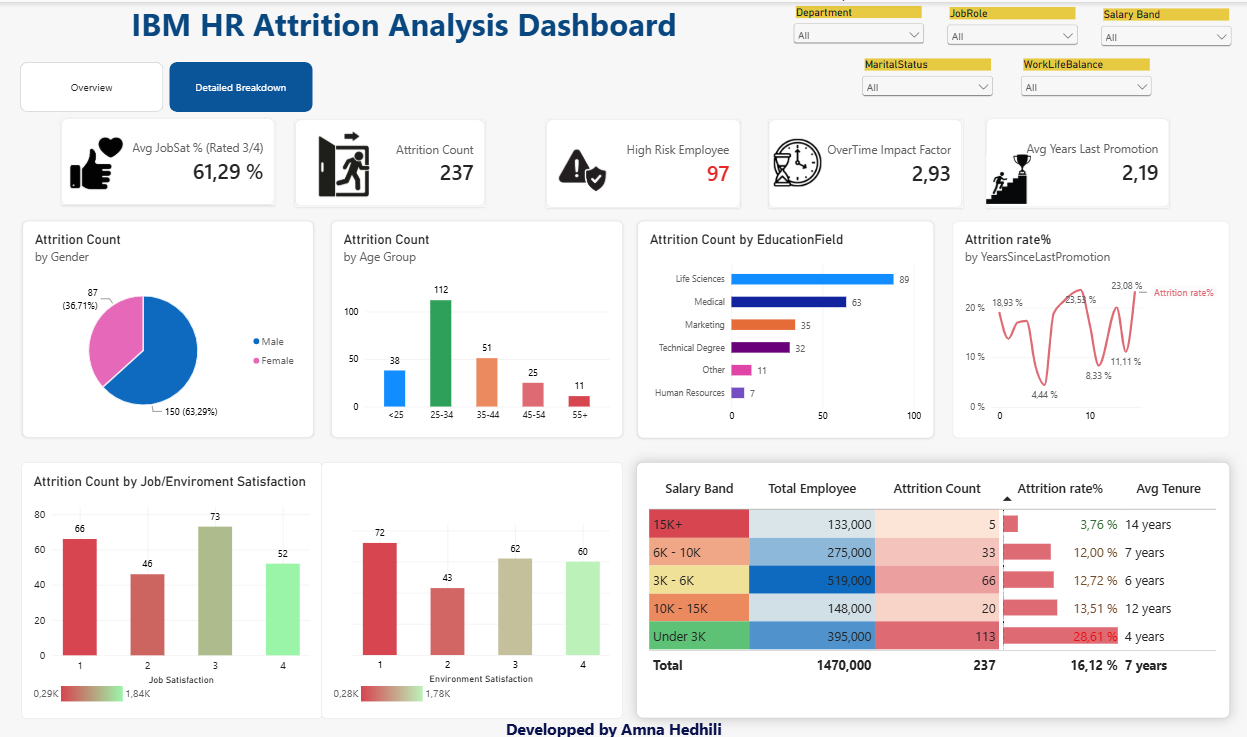

What the dashboard file says about the page in this screenshot:
{"tool":"powerbi","page":{"name":"Detailed Breakdown","canvas":[1700,1015],"ordinal":1},"visuals":[{"type":"slicer","fields":{"Values":["WA_Fn-UseC_-HR-Employee-Attrition.JobRole"]},"box":[1283.9,6.7,187.1,72.9],"z":0},{"type":"cardVisual","fields":{"Data":["measures table.Avg JobSat % (Rated 3/4)"]},"box":[83.4,158.2,290.1,118.3],"z":0,"group":"g1"},{"type":"cardVisual","fields":{"Data":["measures table.Avg Years Last Promotion"]},"box":[1342.3,158.2,249,122],"z":0,"group":"g5"},{"type":"cardVisual","title":"High Risk Employee ","fields":{"Data":["measures table.High Risk Employee Count"]},"box":[743.6,160,264.2,120.1],"z":0,"group":"g3"},{"type":"cardVisual","fields":{"Data":["measures table.OverTime Impact Factor"]},"box":[1046.6,160,264,120.1],"z":0,"group":"g4"},{"type":"cardVisual","fields":{"Data":["measures table.Attrition Count"]},"box":[401.7,160.7,258.7,118.3],"z":0,"group":"g2"},{"type":"slicer","fields":{"Values":["WA_Fn-UseC_-HR-Employee-Attrition.Department"]},"box":[1074.8,5,187,72.9],"z":1000},{"type":"image","box":[1054,171.1,64.7,94.2],"z":1000,"group":"g4"},{"type":"image","box":[83.8,173,96.1,92.4],"z":1000,"group":"g1"},{"type":"image","box":[410.9,173,116.4,97.9],"z":1000,"group":"g2"},{"type":"image","box":[751,176.6,85,103.5],"z":1000,"group":"g3"},{"type":"image","box":[1342.3,193.3,61,94.2],"z":1000,"group":"g5"},{"type":"slicer","fields":{"Values":["WA_Fn-UseC_-HR-Employee-Attrition.Salary Band"]},"box":[1493.1,8.3,187,72.9],"z":2000},{"type":"textbox","box":[179.2,0,829.7,77.6],"z":3000},{"type":"columnChart","fields":{"Y":["measures table.Attrition Count"],"Category":["WA_Fn-UseC_-HR-Employee-Attrition.Age Group"]},"box":[451,297.7,396.7,295],"z":4000},{"type":"pieChart","fields":{"Category":["WA_Fn-UseC_-HR-Employee-Attrition.Gender"],"Y":["measures table.Attrition Count"]},"box":[30.1,297.7,396,295],"z":5000},{"type":"barChart","title":"Attrition Count by EducationField ","fields":{"Category":["WA_Fn-UseC_-HR-Employee-Attrition.EducationField"],"Y":["measures table.Attrition Count"],"Series":["WA_Fn-UseC_-HR-Employee-Attrition.EducationField"]},"box":[866.6,297.5,402.8,295.7],"z":6000},{"type":"tableEx","fields":{"Values":["WA_Fn-UseC_-HR-Employee-Attrition.Salary Band","measures table.Total Employee","measures table.Attrition Count","measures table.Attrition rate%","measures table.Avg Tenure"]},"box":[866.1,625.8,808.1,348.5],"z":7000},{"type":"clusteredColumnChart","title":"Attrition Count by Job/Enviroment Satisfaction ","fields":{"Category":["WA_Fn-UseC_-HR-Employee-Attrition.JobSatisfaction"],"Y":["measures table.Attrition Count"]},"box":[29.6,626.4,410,349.2],"z":8000},{"type":"clusteredColumnChart","fields":{"Y":["measures table.Attrition Count"],"Category":["WA_Fn-UseC_-HR-Employee-Attrition.EnvironmentSatisfaction"]},"box":[437.9,626.4,410,349.2],"z":9000},{"type":"lineChart","fields":{"Y":["measures table.Attrition rate%"],"Category":["WA_Fn-UseC_-HR-Employee-Attrition.YearsSinceLastPromotion"]},"box":[1295.3,297.5,377,295.7],"z":10000},{"type":"pageNavigator","box":[27.7,81.3,399.1,68.4],"z":11000},{"type":"group","id":"g1","title":"Group 1","box":[83.4,158.2,290.1,118.3],"z":12000},{"type":"group","id":"g2","title":"Group 2","box":[401.7,160.7,258.7,118.3],"z":13000},{"type":"group","id":"g3","title":"Group 3","box":[743.6,160,264.2,120.1],"z":14000},{"type":"group","id":"g4","title":"Group 4","box":[1046.6,160,264,120.1],"z":15000},{"type":"group","id":"g5","title":"Group 5","box":[1342.3,158.2,249,129.3],"z":16000},{"type":"slicer","fields":{"Values":["WA_Fn-UseC_-HR-Employee-Attrition.MaritalStatus"]},"box":[1167.9,77.1,187.7,72.1],"z":17000},{"type":"slicer","fields":{"Values":["WA_Fn-UseC_-HR-Employee-Attrition.WorkLifeBalance"]},"box":[1384.1,77.1,187.7,72.1],"z":18000},{"type":"textbox","box":[420,974,830,42],"z":18001}]}

Visuals, with their boxes in screenshot pixels (x1, y1, x2, y2), scaled from the page's 1700x1015 canvas onto the 1247x737 screenshot:
slicer - WA_Fn-UseC_-HR-Employee-Attrition.JobRole: bbox(942, 5, 1079, 58)
cardVisual - measures table.Avg JobSat % (Rated 3/4): bbox(61, 115, 274, 201)
cardVisual - measures table.Avg Years Last Promotion: bbox(985, 115, 1167, 203)
"High Risk Employee " cardVisual: bbox(545, 116, 739, 203)
cardVisual - measures table.OverTime Impact Factor: bbox(768, 116, 961, 203)
cardVisual - measures table.Attrition Count: bbox(295, 117, 484, 203)
slicer - WA_Fn-UseC_-HR-Employee-Attrition.Department: bbox(788, 4, 926, 57)
image: bbox(773, 124, 821, 193)
image: bbox(61, 126, 132, 193)
image: bbox(301, 126, 387, 197)
image: bbox(551, 128, 613, 203)
image: bbox(985, 140, 1029, 209)
slicer - WA_Fn-UseC_-HR-Employee-Attrition.Salary Band: bbox(1095, 6, 1232, 59)
textbox: bbox(131, 0, 740, 56)
columnChart - measures table.Attrition Count x WA_Fn-UseC_-HR-Employee-Attrition.Age Group: bbox(331, 216, 622, 430)
pieChart - WA_Fn-UseC_-HR-Employee-Attrition.Gender x measures table.Attrition Count: bbox(22, 216, 313, 430)
"Attrition Count by EducationField " barChart: bbox(636, 216, 931, 431)
tableEx - WA_Fn-UseC_-HR-Employee-Attrition.Salary Band x measures table.Total Employee: bbox(635, 454, 1228, 707)
"Attrition Count by Job/Enviroment Satisfaction " clusteredColumnChart: bbox(22, 455, 322, 708)
clusteredColumnChart - measures table.Attrition Count x WA_Fn-UseC_-HR-Employee-Attrition.EnvironmentSatisfaction: bbox(321, 455, 622, 708)
lineChart - measures table.Attrition rate% x WA_Fn-UseC_-HR-Employee-Attrition.YearsSinceLastPromotion: bbox(950, 216, 1227, 431)
pageNavigator: bbox(20, 59, 313, 109)
"Group 1" group: bbox(61, 115, 274, 201)
"Group 2" group: bbox(295, 117, 484, 203)
"Group 3" group: bbox(545, 116, 739, 203)
"Group 4" group: bbox(768, 116, 961, 203)
"Group 5" group: bbox(985, 115, 1167, 209)
slicer - WA_Fn-UseC_-HR-Employee-Attrition.MaritalStatus: bbox(857, 56, 994, 108)
slicer - WA_Fn-UseC_-HR-Employee-Attrition.WorkLifeBalance: bbox(1015, 56, 1153, 108)
textbox: bbox(308, 707, 917, 736)
